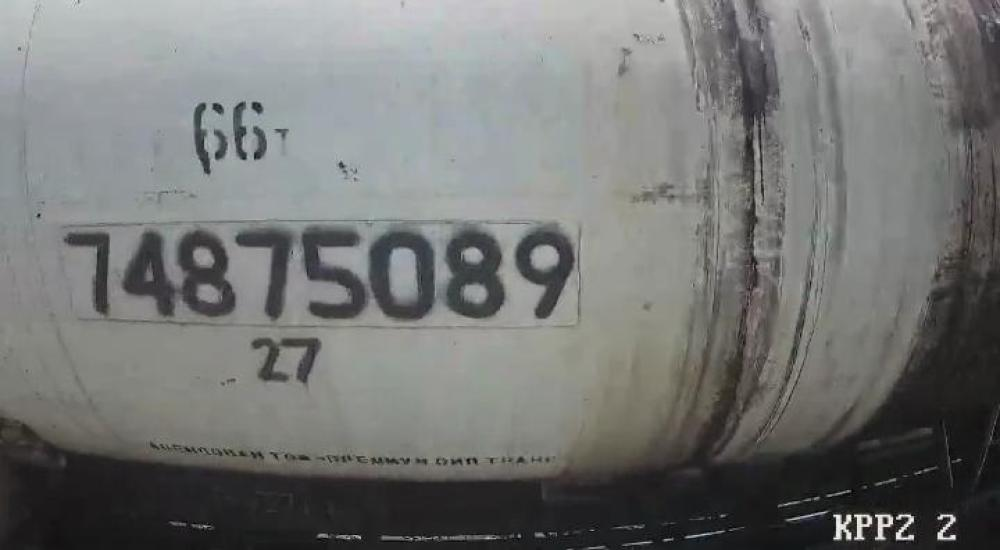Wagon-number: (64, 220, 578, 329)
